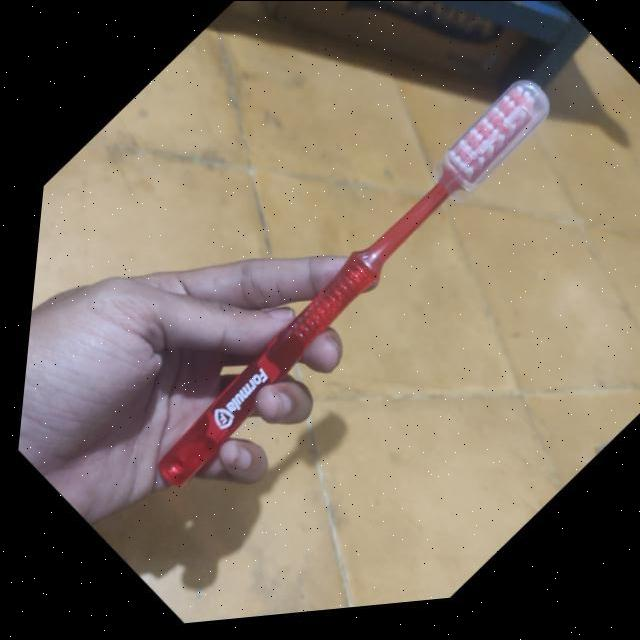toothbrush: (96, 42, 600, 534)
